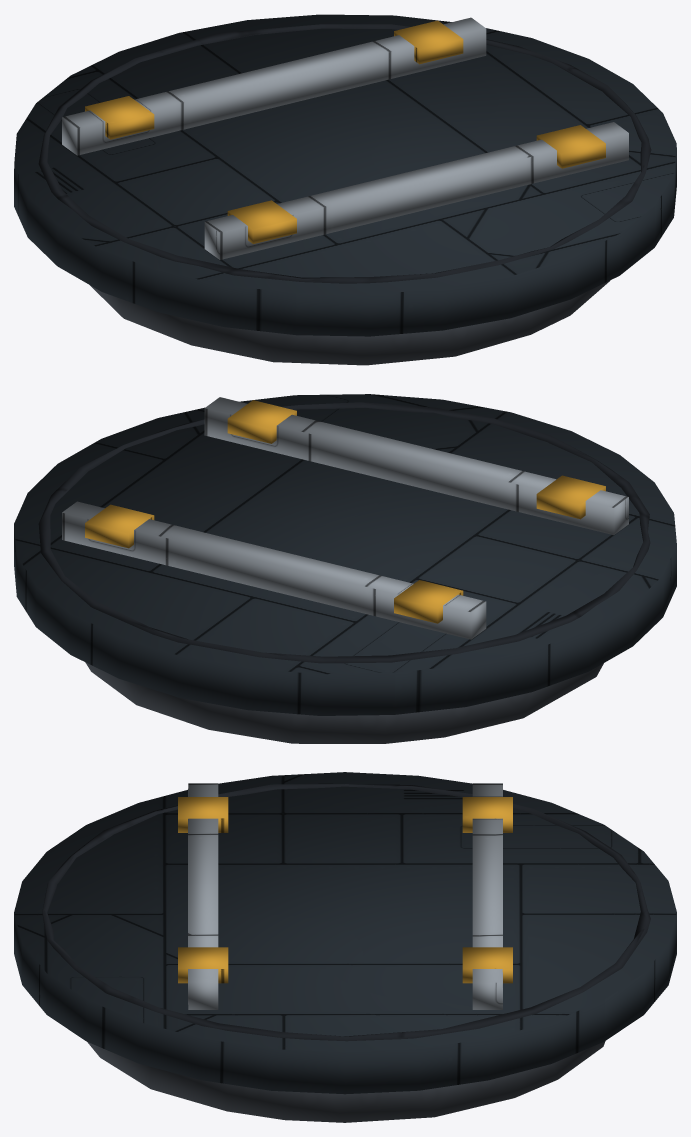
The model's file is ops_cargo_turntable_lod2.glb.
3 views of the same model, one above another, from view 1: azimuth 30°, elevation 25°; view 2: azimuth 150°, elevation 25°; view 3: azimuth 270°, elevation 25° (orthographic).
Parts seen in each view (by area): view 1: LOD2_MOTION_TURNTABLE_YAW_Armor, LOD2_MOTION_TURNTABLE_YAW_BrushedMetal, LOD2_Mechanical, LOD2_MOTION_TURNTABLE_YAW_MechanicalDark, LOD2_MOTION_TURNTABLE_YAW_Livery; view 2: LOD2_MOTION_TURNTABLE_YAW_Armor, LOD2_MOTION_TURNTABLE_YAW_BrushedMetal, LOD2_Mechanical, LOD2_MOTION_TURNTABLE_YAW_MechanicalDark, LOD2_MOTION_TURNTABLE_YAW_Livery; view 3: LOD2_MOTION_TURNTABLE_YAW_Armor, LOD2_Mechanical, LOD2_MOTION_TURNTABLE_YAW_BrushedMetal, LOD2_MOTION_TURNTABLE_YAW_MechanicalDark, LOD2_MOTION_TURNTABLE_YAW_Livery.
Part boxes in pixels (<box>): LOD2_MOTION_TURNTABLE_YAW_Armor: <box>14,14,676,336</box>; LOD2_MOTION_TURNTABLE_YAW_BrushedMetal: <box>62,17,628,259</box>; LOD2_Mechanical: <box>90,280,610,365</box>; LOD2_MOTION_TURNTABLE_YAW_MechanicalDark: <box>38,24,651,283</box>; LOD2_MOTION_TURNTABLE_YAW_Livery: <box>85,20,605,243</box>; LOD2_MOTION_TURNTABLE_YAW_Armor: <box>14,394,676,715</box>; LOD2_MOTION_TURNTABLE_YAW_BrushedMetal: <box>62,397,628,639</box>; LOD2_Mechanical: <box>85,662,603,743</box>; LOD2_MOTION_TURNTABLE_YAW_MechanicalDark: <box>38,402,650,663</box>; LOD2_MOTION_TURNTABLE_YAW_Livery: <box>85,400,605,623</box>; LOD2_MOTION_TURNTABLE_YAW_Armor: <box>14,772,676,1094</box>; LOD2_Mechanical: <box>87,1041,605,1122</box>; LOD2_MOTION_TURNTABLE_YAW_BrushedMetal: <box>188,783,502,1009</box>; LOD2_MOTION_TURNTABLE_YAW_MechanicalDark: <box>42,783,650,1041</box>; LOD2_MOTION_TURNTABLE_YAW_Livery: <box>178,797,512,983</box>.
Bounding box in the file's own units: 2.8 × 0.5826 × 2.8.
Materials: 5 (5 with a texture image).
